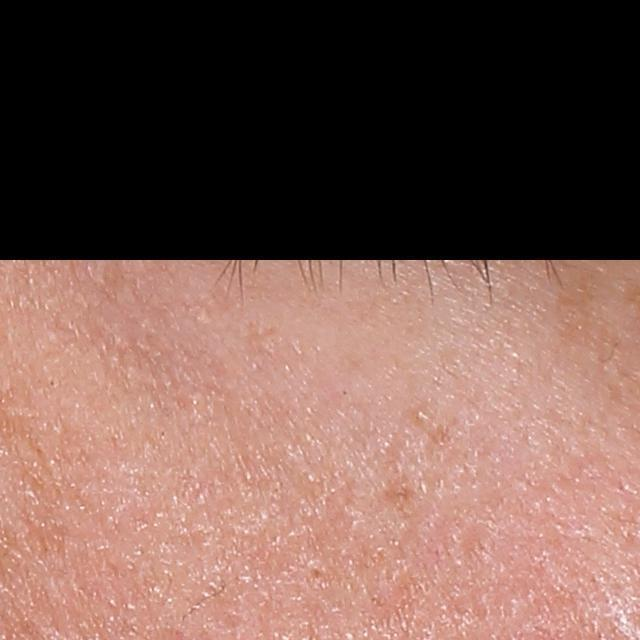melasma: (553, 271, 623, 352), (377, 470, 427, 518)
